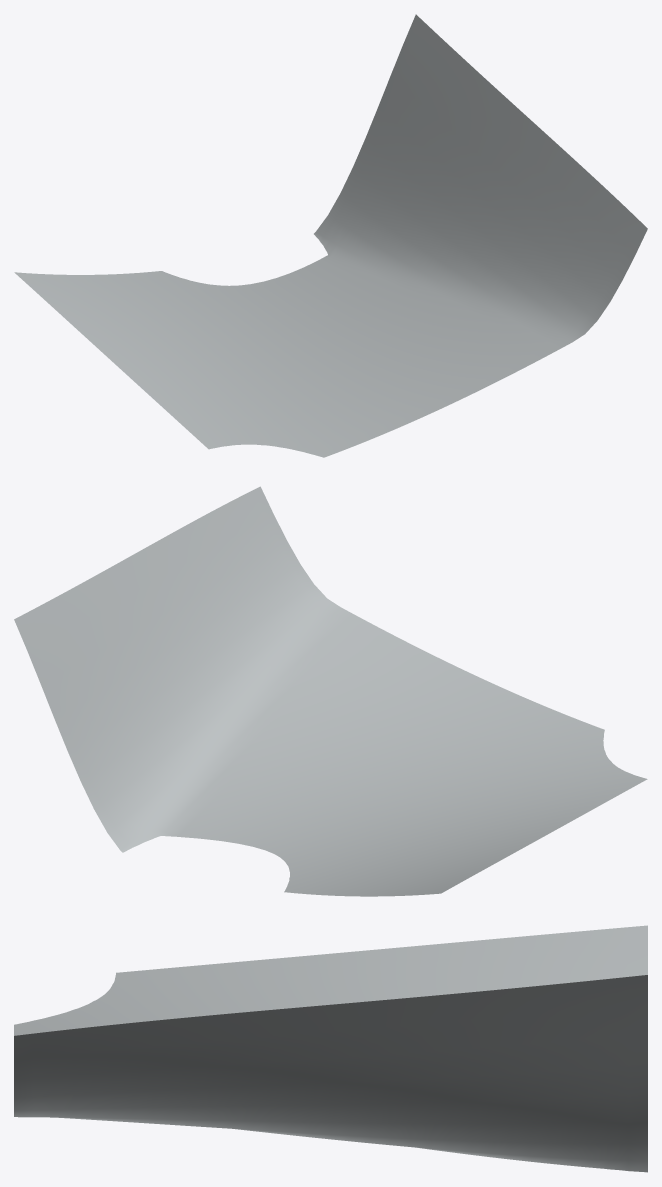
Rendered from alpine-11-8.glb.
The picture shows the model from 3 angles, top to bottom: view 1: azimuth 30°, elevation 25°; view 2: azimuth 150°, elevation 25°; view 3: azimuth 270°, elevation 25°; orthographic projection. The views are drawn at different scales.
Visible parts, largest first — view 1: alpine-11-8; view 2: alpine-11-8; view 3: alpine-11-8.
Part boxes in pixels (left/top/right/bottom): alpine-11-8: left=14, top=14, right=647, bottom=457; alpine-11-8: left=14, top=486, right=647, bottom=896; alpine-11-8: left=14, top=925, right=647, bottom=1172.
Size of the model in its own units: 256 by 118 by 256.
Materials: 1 (1 with a texture image).
